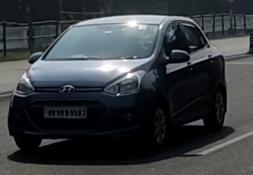Car: (7, 14, 227, 149)
